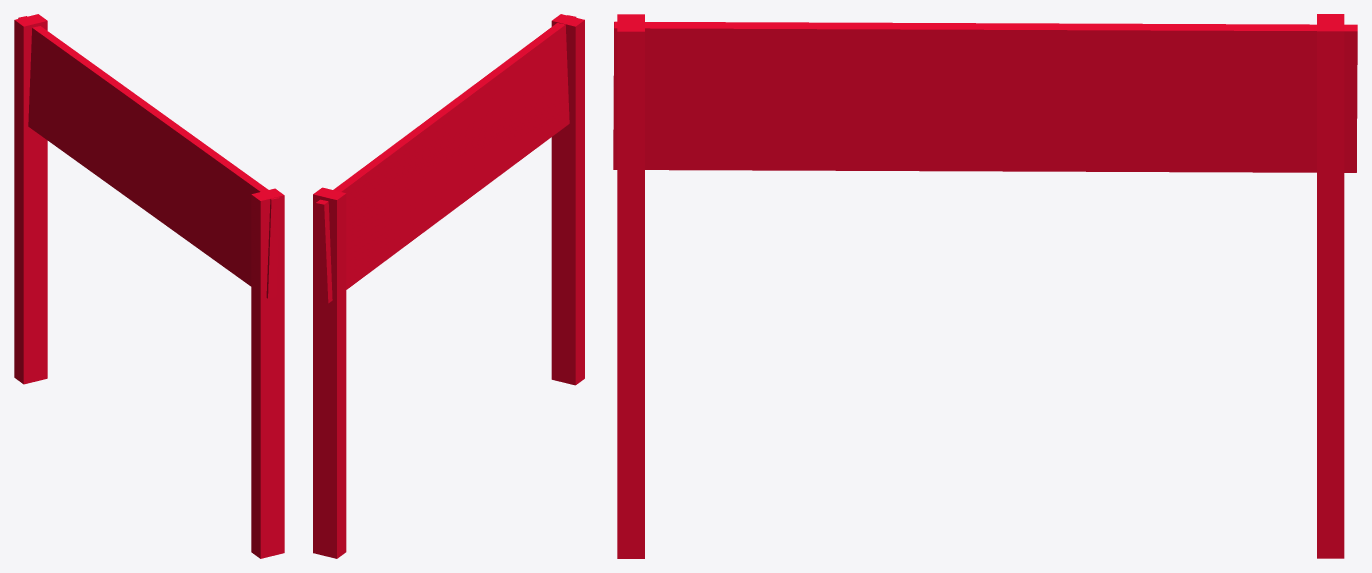
File: finish line.dae
3 renders of one model, left to right at view 1: azimuth 30°, elevation 25°; view 2: azimuth 150°, elevation 25°; view 3: azimuth 270°, elevation 25°, orthographic. The views are drawn at different scales.
Visible parts, largest first — view 1: Cube.002, Cube.001, Cube; view 2: Cube.002, Cube, Cube.001; view 3: Cube.002, Cube.001, Cube.
Boxes of the visible parts, x1,y1,x2,y2 form: Cube.002: [18, 16, 279, 298]; Cube.001: [251, 188, 284, 558]; Cube: [14, 14, 47, 384]; Cube.002: [315, 15, 576, 303]; Cube: [313, 187, 346, 558]; Cube.001: [551, 14, 584, 385]; Cube.002: [613, 21, 1357, 172]; Cube.001: [617, 14, 644, 558]; Cube: [1317, 14, 1344, 558].
Bounding box in the file's own units: 0.4668 × 8.31 × 6.51.
